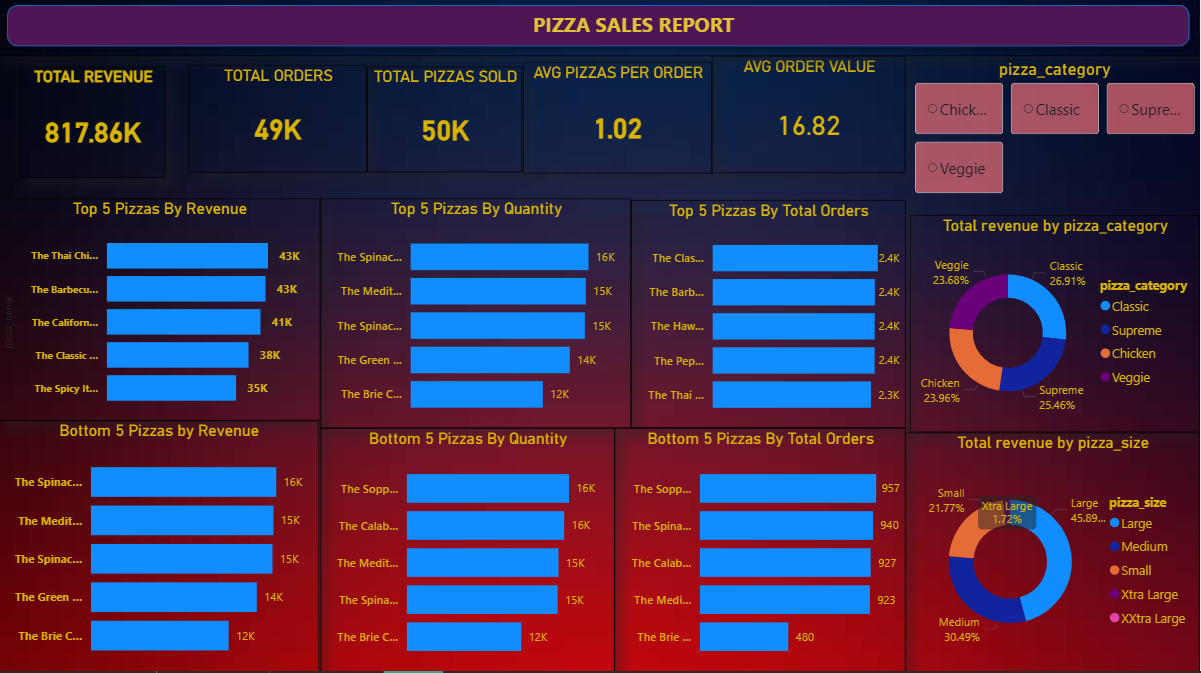

The dashboard page shown, as its layout file describes it:
{"tool":"powerbi","page":{"name":"Page 1","canvas":[1280,720],"ordinal":0},"visuals":[{"type":"card","title":"TOTAL REVENUE","fields":{"Values":["pizza_sales.Total revenue"]},"box":[24.5,75.3,154.3,118.5],"z":0},{"type":"card","title":"AVG ORDER VALUE","fields":{"Values":["pizza_sales.Avg order value"]},"box":[760.5,63.9,206.1,124.6],"z":1000},{"type":"card","title":"AVG PIZZAS PER ORDER","fields":{"Values":["pizza_sales.Avg pizzas per order"]},"box":[558.8,69.6,201.3,118.5],"z":2000},{"type":"card","title":"TOTAL ORDERS","fields":{"Values":["pizza_sales.Total Orders"]},"box":[203.2,73.4,190,114.8],"z":3000},{"type":"card","title":"TOTAL PIZZAS SOLD","fields":{"Values":["pizza_sales.Total pizzas sold"]},"box":[393.2,75.3,165.6,112.9],"z":4000},{"type":"shape","box":[0,0,1279.4,64],"z":5000},{"type":"donutChart","fields":{"Category":["pizza_sales.pizza_category"],"Y":["pizza_sales.Total revenue"]},"box":[971.4,233.3,308.4,231.7],"z":6000},{"type":"donutChart","fields":{"Y":["pizza_sales.Total revenue"],"Category":["pizza_sales.pizza_size"]},"box":[966.6,464.9,313.1,255.6],"z":7000},{"type":"barChart","title":"Top 5 Pizzas By Revenue","fields":{"Category":["pizza_sales.pizza_name"],"Y":["pizza_sales.Total revenue"]},"box":[0,215.7,343.5,236.5],"z":8000},{"type":"barChart","title":"Bottom 5 Pizzas by Revenue","fields":{"Category":["pizza_sales.pizza_name"],"Y":["pizza_sales.Total revenue"]},"box":[0,452.1,341.9,268.4],"z":9000},{"type":"barChart","title":"Top 5 Pizzas By Quantity","fields":{"Y":["pizza_sales.Total revenue"],"Category":["pizza_sales.pizza_name"]},"box":[343.5,215.7,330.7,244.4],"z":10000},{"type":"barChart","title":"Bottom 5 Pizzas By Quantity","fields":{"Y":["pizza_sales.Total revenue"],"Category":["pizza_sales.pizza_name"]},"box":[343.5,460.1,313.1,260.4],"z":11000},{"type":"barChart","title":"Top 5 Pizzas By Total Orders","fields":{"Category":["pizza_sales.pizza_name"],"Y":["pizza_sales.Total Orders"]},"box":[674.2,217.3,292.4,242.8],"z":12000},{"type":"barChart","title":"Bottom 5 Pizzas By Total Orders","fields":{"Category":["pizza_sales.pizza_name"],"Y":["pizza_sales.Total Orders"]},"box":[656.6,460.1,309.9,260.4],"z":13000},{"type":"textbox","box":[521.2,9.4,312.3,43.3],"z":14000},{"type":"advancedSlicerVisual","fields":{"Values":["pizza_sales.pizza_category"]},"box":[971.4,67.1,308.4,148.6],"z":14001}]}

Visuals, with their boxes in screenshot pixels (x1, y1, x2, y2), scaled from the page's 1280x720 canvas onto the 1201x673 screenshot:
"TOTAL REVENUE" card: locate(23, 70, 168, 181)
"AVG ORDER VALUE" card: locate(714, 60, 907, 176)
"AVG PIZZAS PER ORDER" card: locate(524, 65, 713, 176)
"TOTAL ORDERS" card: locate(191, 69, 369, 176)
"TOTAL PIZZAS SOLD" card: locate(369, 70, 524, 176)
shape: locate(0, 0, 1200, 60)
donutChart - pizza_sales.pizza_category x pizza_sales.Total revenue: locate(911, 218, 1200, 435)
donutChart - pizza_sales.Total revenue x pizza_sales.pizza_size: locate(907, 435, 1200, 672)
"Top 5 Pizzas By Revenue" barChart: locate(0, 202, 322, 423)
"Bottom 5 Pizzas by Revenue" barChart: locate(0, 423, 321, 672)
"Top 5 Pizzas By Quantity" barChart: locate(322, 202, 633, 430)
"Bottom 5 Pizzas By Quantity" barChart: locate(322, 430, 616, 672)
"Top 5 Pizzas By Total Orders" barChart: locate(633, 203, 907, 430)
"Bottom 5 Pizzas By Total Orders" barChart: locate(616, 430, 907, 672)
textbox: locate(489, 9, 782, 49)
advancedSlicerVisual - pizza_sales.pizza_category: locate(911, 63, 1200, 202)
